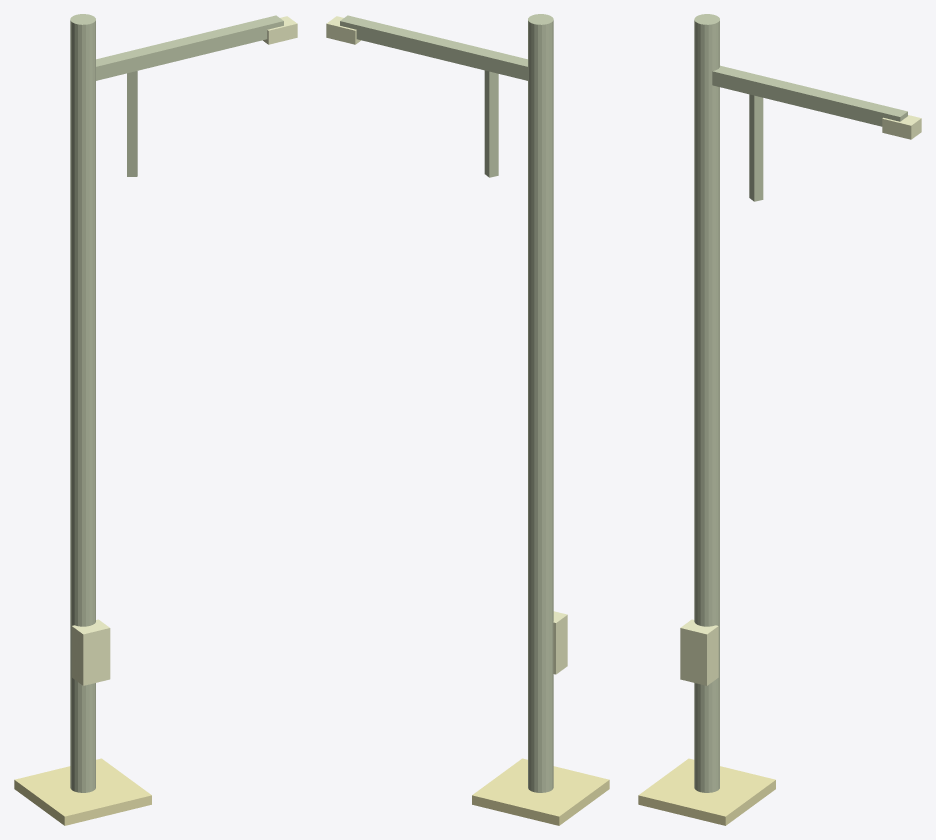
File: furniture_utility_pole_steel.glb
3 renders of one model, left to right at view 1: azimuth 30°, elevation 25°; view 2: azimuth 150°, elevation 25°; view 3: azimuth 330°, elevation 25°, orthographic.
Parts seen in each view (by area): view 1: pole, base_pad, arm, service_can, brace, top_fixture; view 2: pole, base_pad, arm, brace, service_can, top_fixture; view 3: pole, base_pad, arm, service_can, brace, top_fixture.
Boxes of the visible parts, x1,y1,x2,y2 form: pole: [70, 14, 95, 792]; base_pad: [14, 758, 151, 825]; arm: [96, 15, 283, 80]; service_can: [71, 619, 110, 685]; brace: [127, 71, 137, 176]; top_fixture: [263, 16, 297, 44]; pole: [528, 14, 553, 792]; base_pad: [472, 758, 609, 825]; arm: [340, 15, 527, 80]; brace: [484, 70, 498, 177]; service_can: [553, 611, 567, 674]; top_fixture: [326, 16, 360, 44]; pole: [694, 14, 719, 792]; base_pad: [638, 758, 775, 825]; arm: [712, 65, 907, 126]; service_can: [680, 619, 718, 685]; brace: [749, 94, 763, 201]; top_fixture: [882, 115, 921, 139].
Size of the model in its own units: 2.26 by 6.64 by 0.78.
